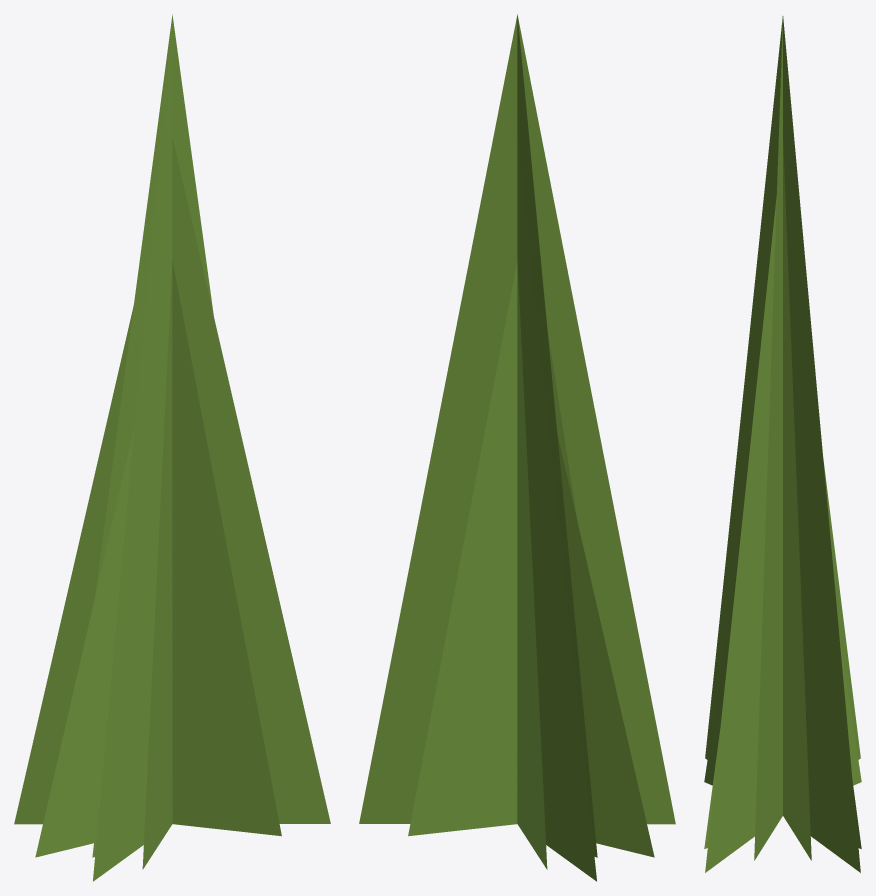
File: GrassClump_A.fbx
3 views of the same model, side by side, from view 1: azimuth 30°, elevation 25°; view 2: azimuth 150°, elevation 25°; view 3: azimuth 270°, elevation 25° (orthographic).
Parts seen in each view (by area): view 1: GrassBlade.001, GrassBlade, GrassBlade.005, GrassBlade.003, GrassBlade.006, GrassBlade.002; view 2: GrassBlade.005, GrassBlade.006, GrassBlade.001, GrassBlade.003, GrassBlade, GrassBlade.002, GrassBlade.004; view 3: GrassBlade.005, GrassBlade.001, GrassBlade.002, GrassBlade.004, GrassBlade.006, GrassBlade.
Boxes of the visible parts, <box> form: GrassBlade.001: <box>14,137,330,824</box>; GrassBlade: <box>172,260,281,836</box>; GrassBlade.005: <box>93,18,172,881</box>; GrassBlade.003: <box>35,426,134,857</box>; GrassBlade.006: <box>142,267,172,869</box>; GrassBlade.002: <box>95,14,213,820</box>; GrassBlade.005: <box>359,15,675,824</box>; GrassBlade.006: <box>408,262,517,836</box>; GrassBlade.001: <box>517,137,596,881</box>; GrassBlade.003: <box>517,434,654,857</box>; GrassBlade: <box>517,260,547,869</box>; GrassBlade.002: <box>517,14,597,857</box>; GrassBlade.004: <box>547,329,577,519</box>; GrassBlade.005: <box>705,16,860,872</box>; GrassBlade.001: <box>705,194,860,872</box>; GrassBlade.002: <box>754,19,782,860</box>; GrassBlade.004: <box>783,140,811,860</box>; GrassBlade.006: <box>704,550,861,848</box>; GrassBlade: <box>704,629,861,848</box>.
Size of the model in its own units: 2.8 by 7.9 by 1.41.
